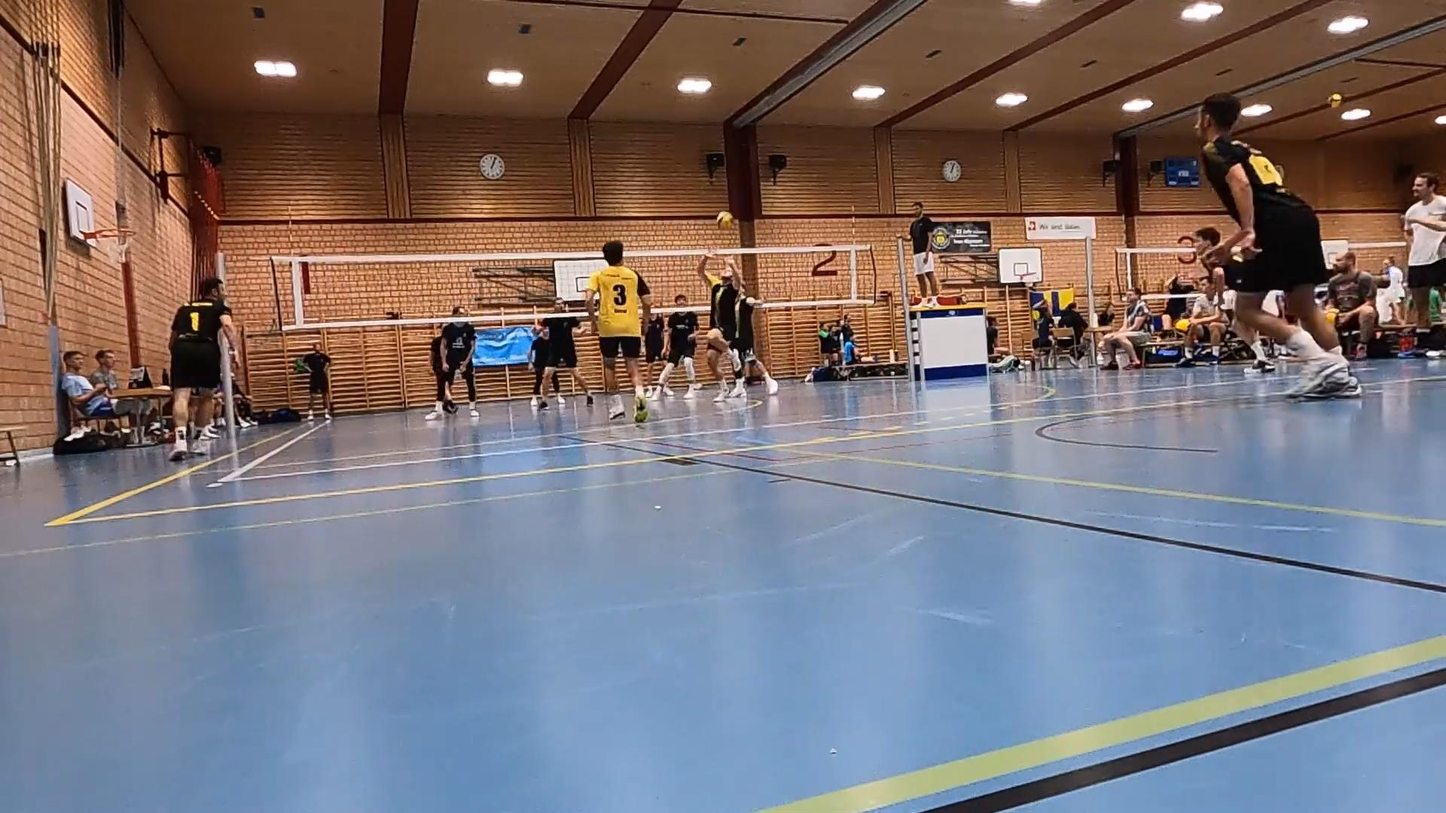Player: (1197, 94, 1359, 397), (169, 278, 236, 460), (1194, 227, 1274, 372), (587, 240, 650, 422), (538, 298, 593, 407), (729, 289, 778, 396), (654, 294, 699, 399), (442, 306, 477, 416), (425, 331, 456, 421), (530, 321, 549, 408), (644, 314, 667, 381)
Set: (693, 251, 745, 405)
ball: (715, 210, 734, 226)
